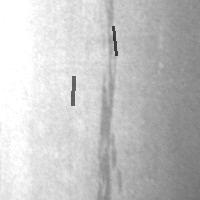inclusion: (90, 1, 125, 198), (111, 24, 118, 57), (70, 74, 75, 107)
